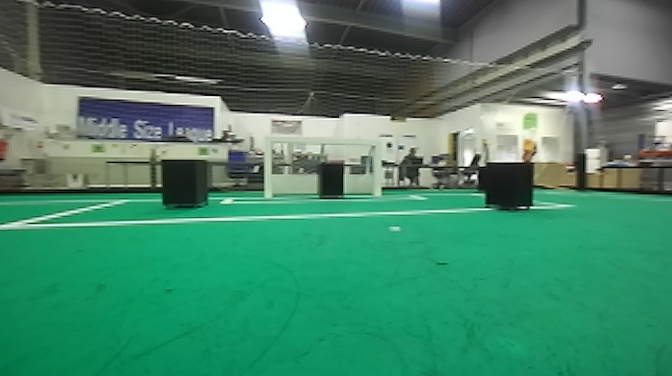goalpost: (366, 137, 388, 197), (261, 132, 275, 202)
